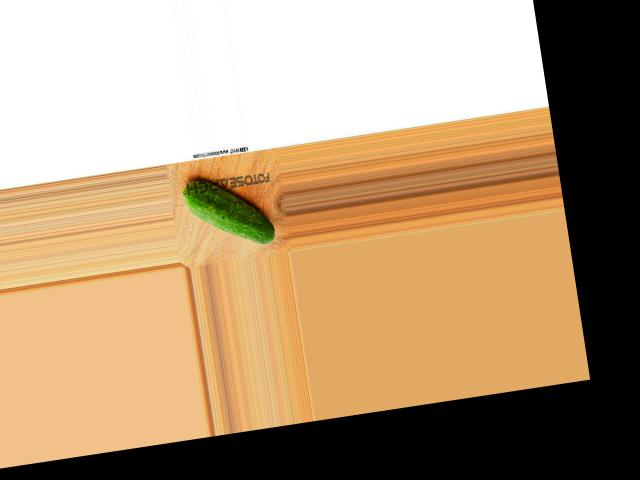cucumber: (179, 169, 276, 255)
